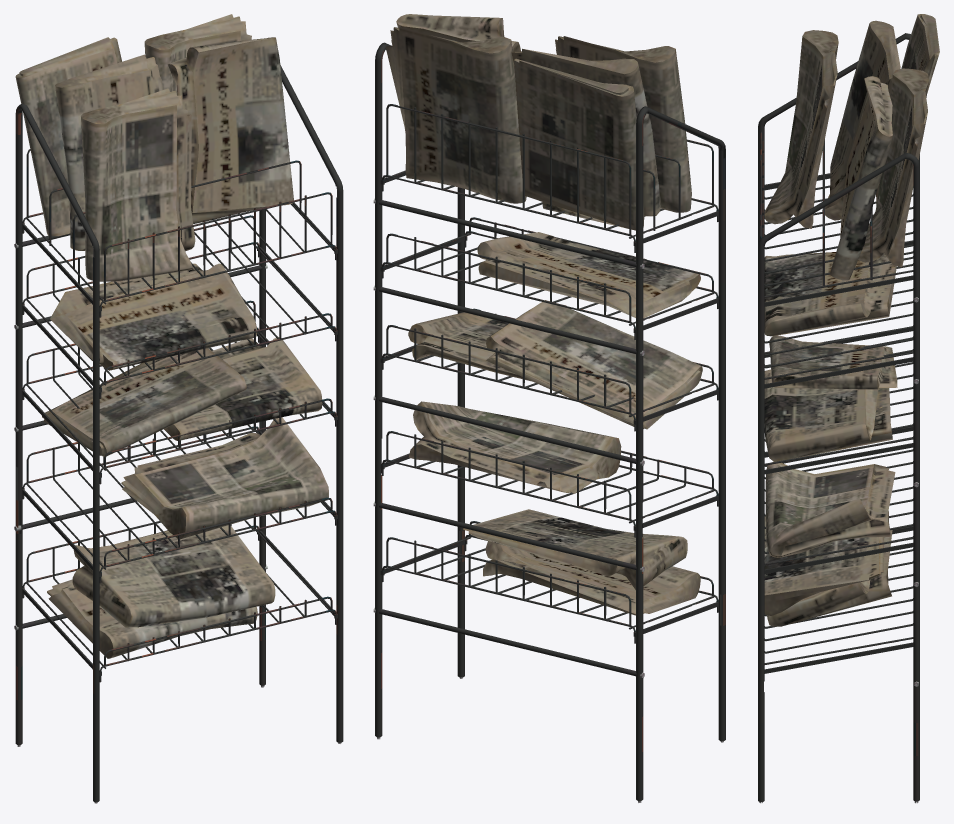
The model's file is sm39_120_magazinerackset02a.fbx.
3 views of the same model, side by side, from view 1: azimuth 30°, elevation 25°; view 2: azimuth 150°, elevation 25°; view 3: azimuth 270°, elevation 25° (orthographic). The views are drawn at different scales.
Visible parts, largest first — view 1: LOD_1_Group_0_Sub_2__sm36_010_Newspaper01A_A_Mat, LOD_1_Group_0_Sub_1__sm30_179_WireBasket01A_A_Mat; view 2: LOD_1_Group_0_Sub_2__sm36_010_Newspaper01A_A_Mat, LOD_1_Group_0_Sub_1__sm30_179_WireBasket01A_A_Mat; view 3: LOD_1_Group_0_Sub_2__sm36_010_Newspaper01A_A_Mat, LOD_1_Group_0_Sub_1__sm30_179_WireBasket01A_A_Mat.
Boxes of the visible parts, <box> form: LOD_1_Group_0_Sub_2__sm36_010_Newspaper01A_A_Mat: <box>15,14,328,658</box>; LOD_1_Group_0_Sub_1__sm30_179_WireBasket01A_A_Mat: <box>14,65,343,803</box>; LOD_1_Group_0_Sub_2__sm36_010_Newspaper01A_A_Mat: <box>385,14,702,615</box>; LOD_1_Group_0_Sub_1__sm30_179_WireBasket01A_A_Mat: <box>373,42,725,802</box>; LOD_1_Group_0_Sub_2__sm36_010_Newspaper01A_A_Mat: <box>764,14,939,626</box>; LOD_1_Group_0_Sub_1__sm30_179_WireBasket01A_A_Mat: <box>758,33,919,803</box>.
Size of the model in its own units: 0.5309 by 1.37 by 0.3324.
